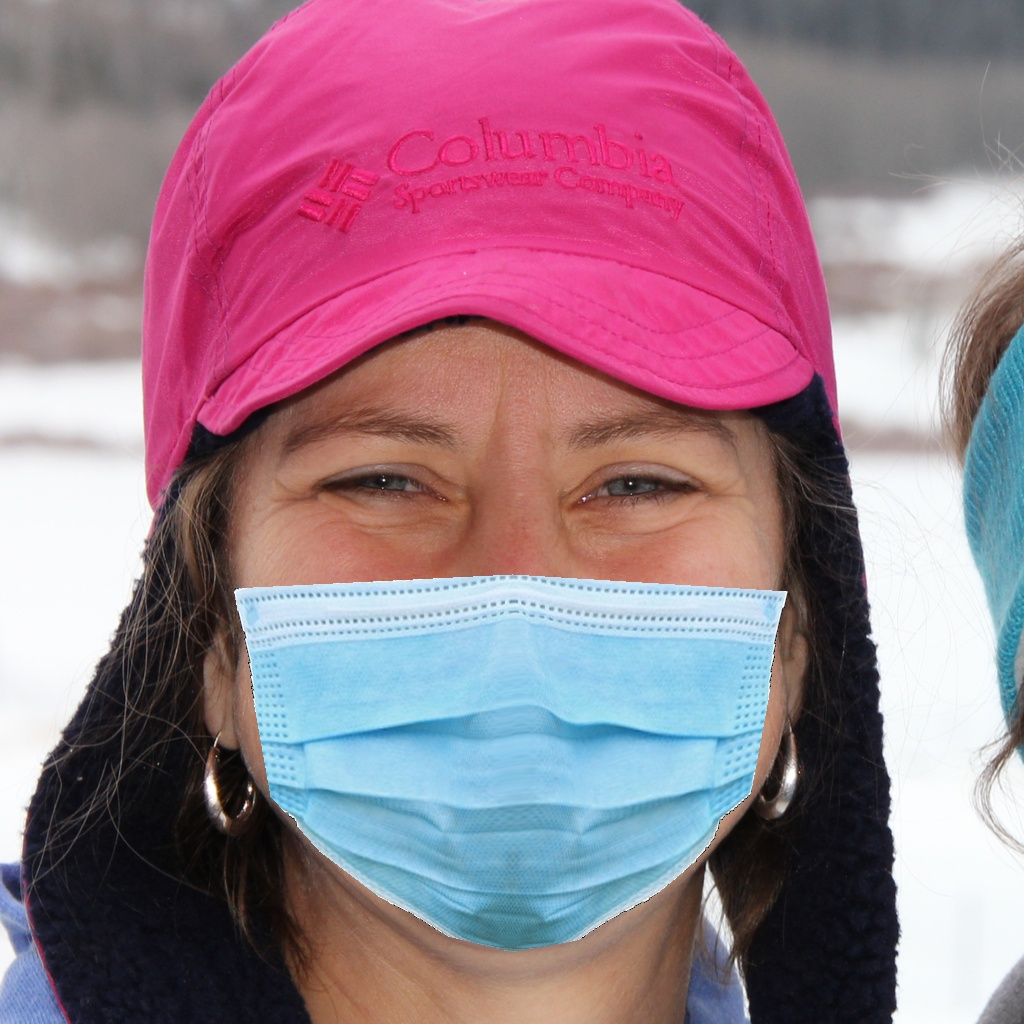Mask: (219, 344, 796, 953)
